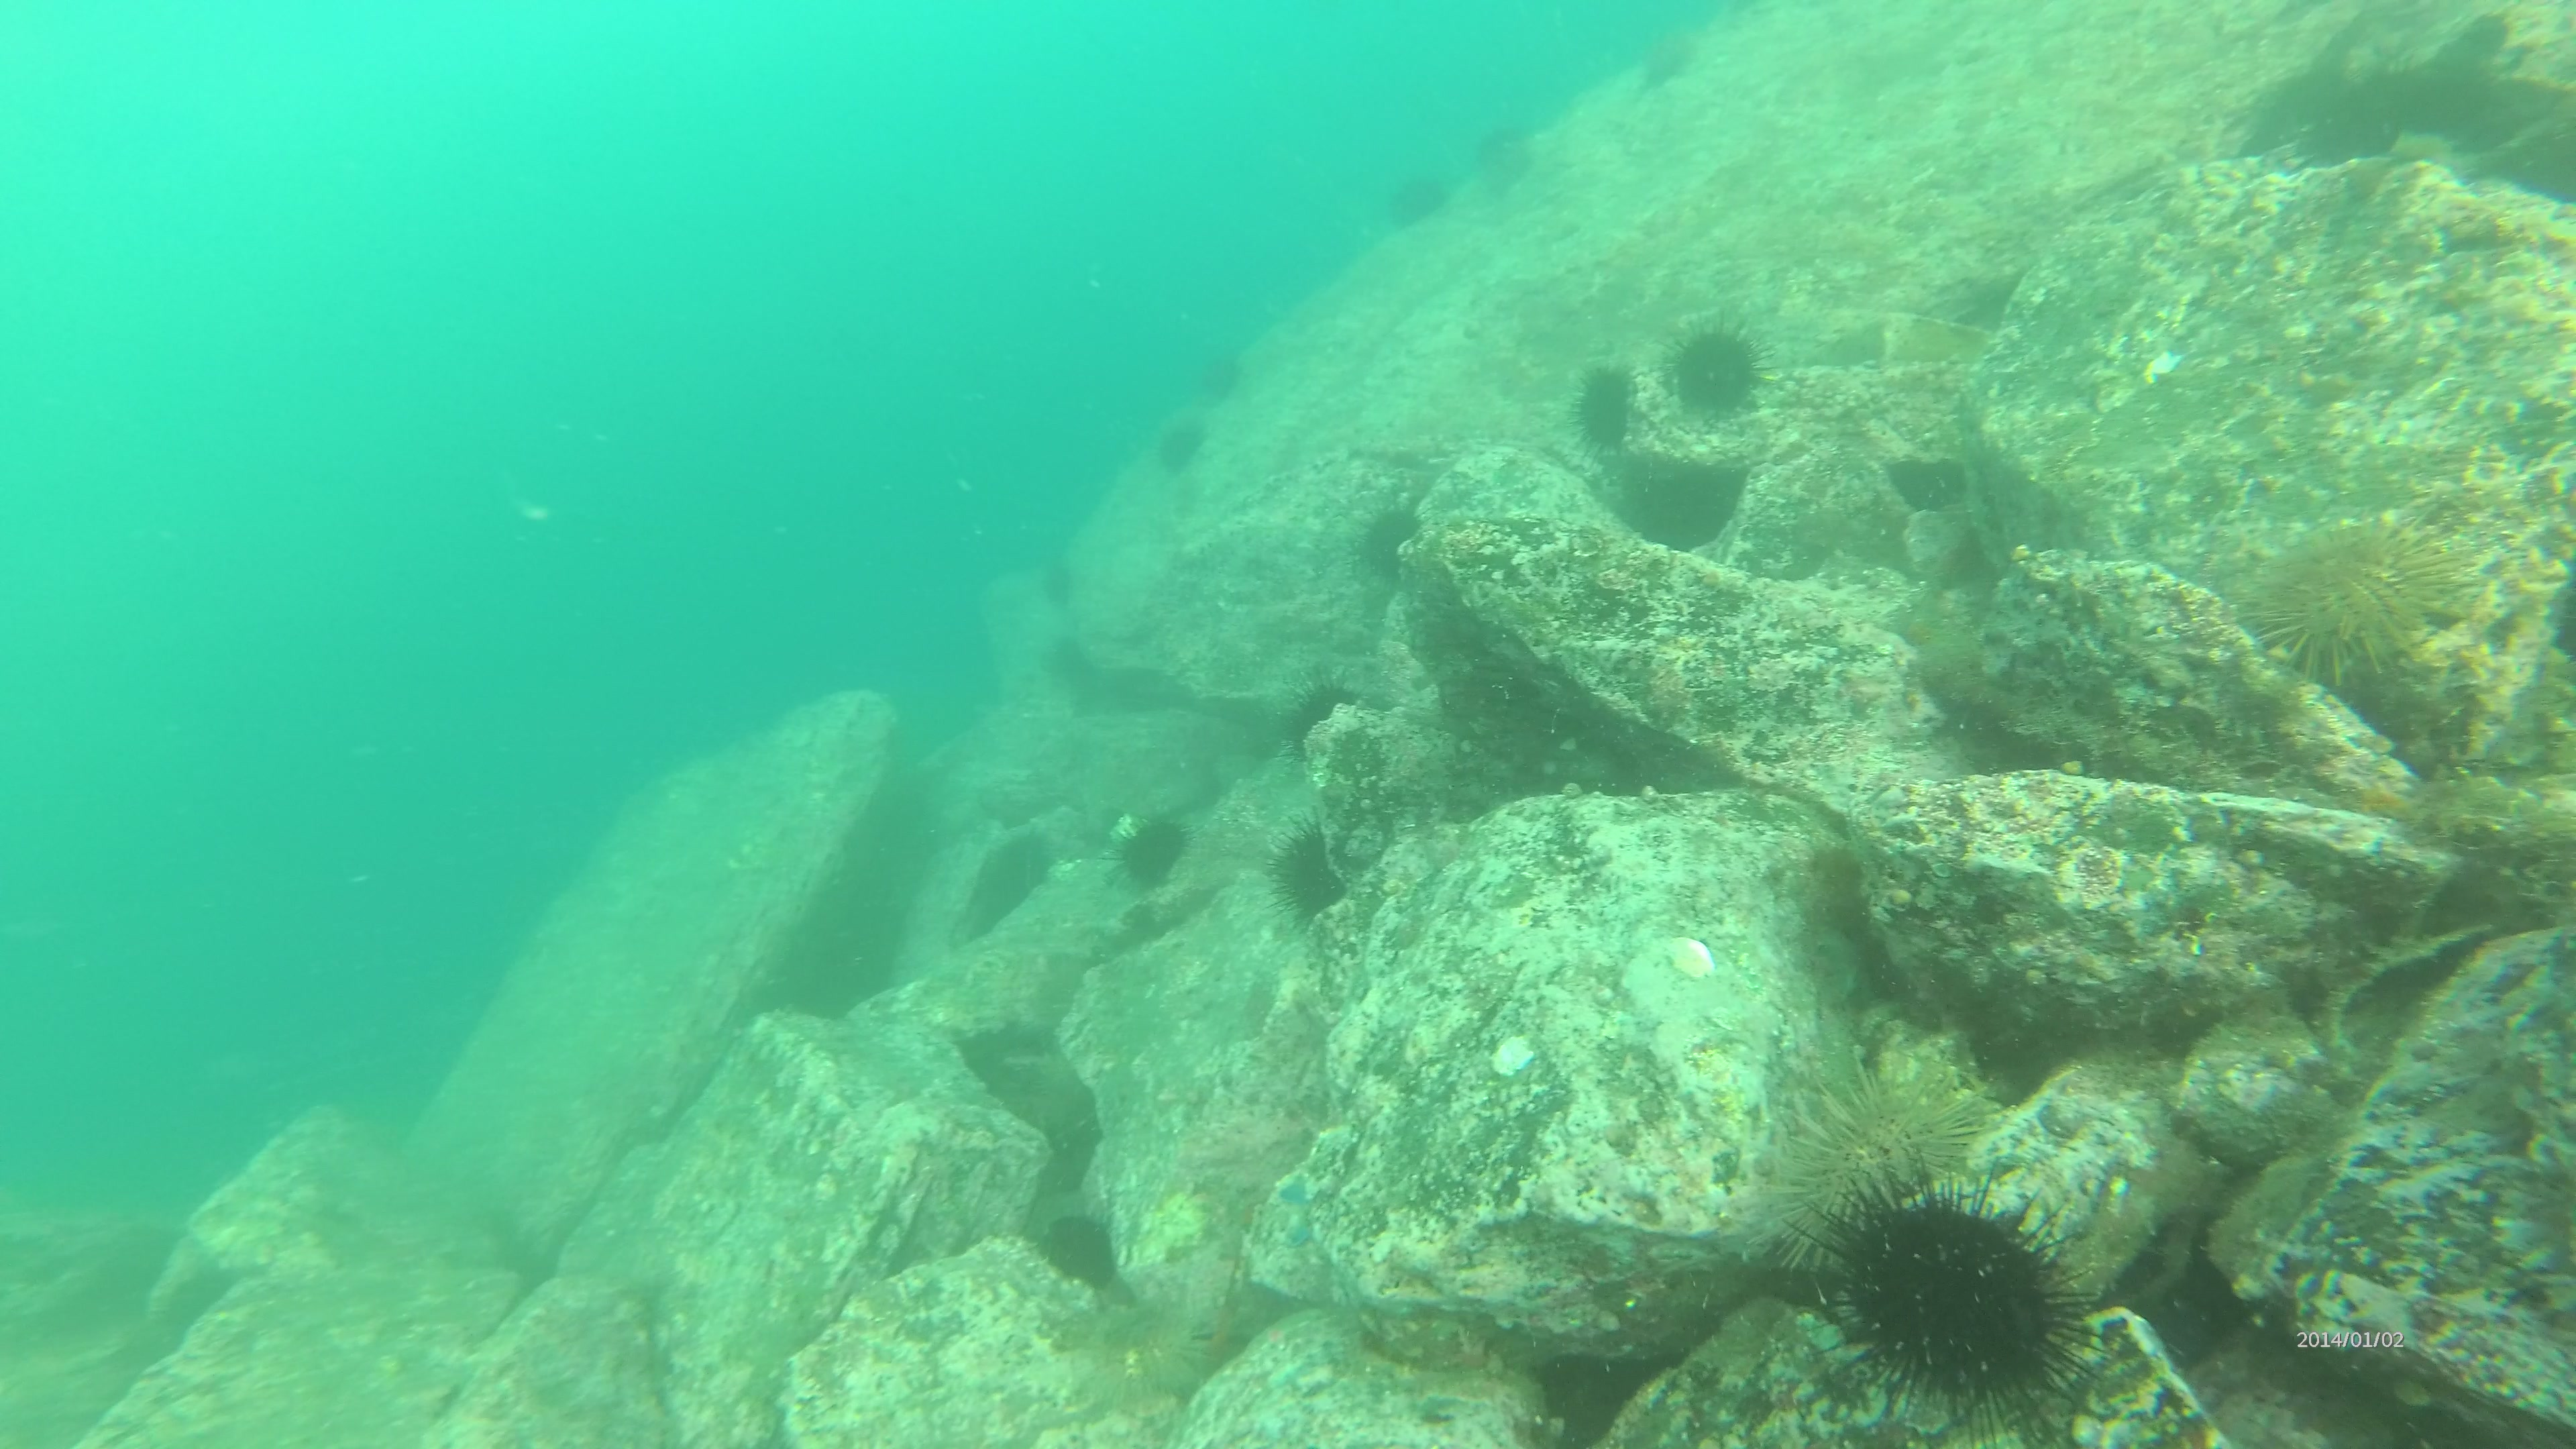echinus: (1785, 1164, 2120, 1430), (1762, 1035, 1994, 1269), (2247, 511, 2468, 692), (1658, 318, 1773, 428), (1260, 817, 1348, 929), (1350, 495, 1433, 580), (1111, 810, 1191, 893), (1575, 359, 1640, 453), (1465, 126, 1545, 200), (1645, 23, 1695, 92), (1391, 172, 1449, 228), (1161, 419, 1210, 471), (1194, 354, 1240, 403)
